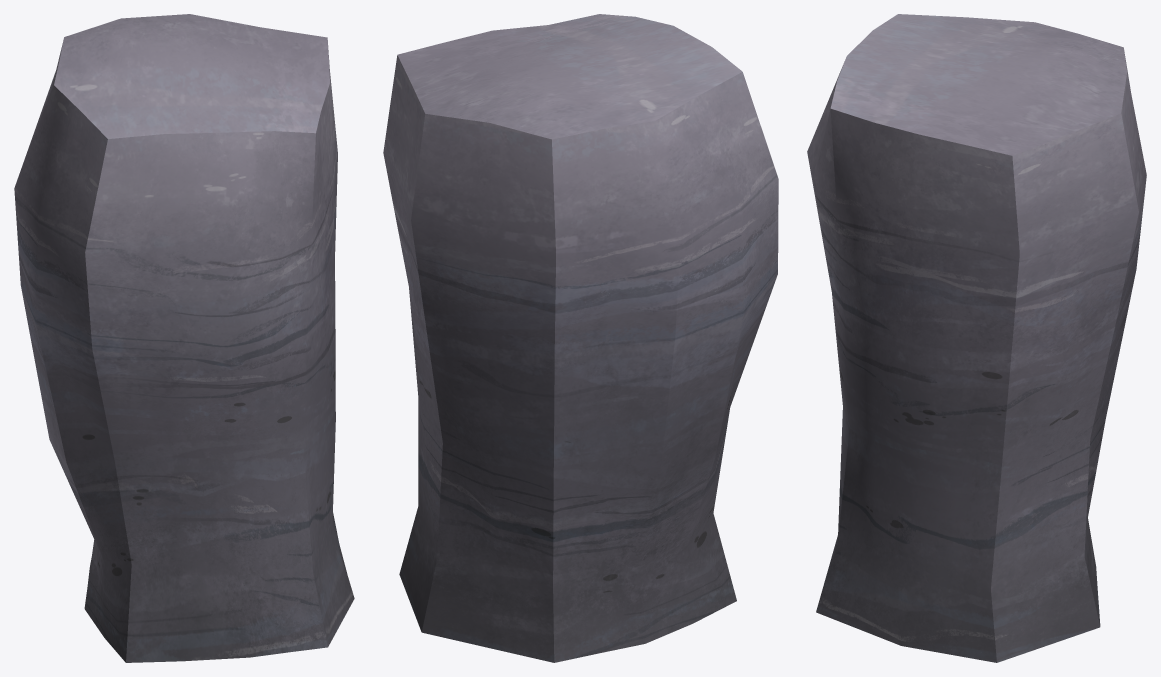
File: tower_2.fbx
3 views of the same model, side by side, from view 1: azimuth 30°, elevation 25°; view 2: azimuth 150°, elevation 25°; view 3: azimuth 270°, elevation 25° (orthographic). The views are drawn at different scales.
Parts seen in each view (by area): view 1: tower 2; view 2: tower 2; view 3: tower 2.
Boxes of the visible parts, box(x1,y1,x2,y2) form: tower 2: box(14, 14, 354, 662); tower 2: box(383, 14, 778, 662); tower 2: box(807, 14, 1146, 662).
Size of the model in its own units: 1227 by 1934 by 1131.
